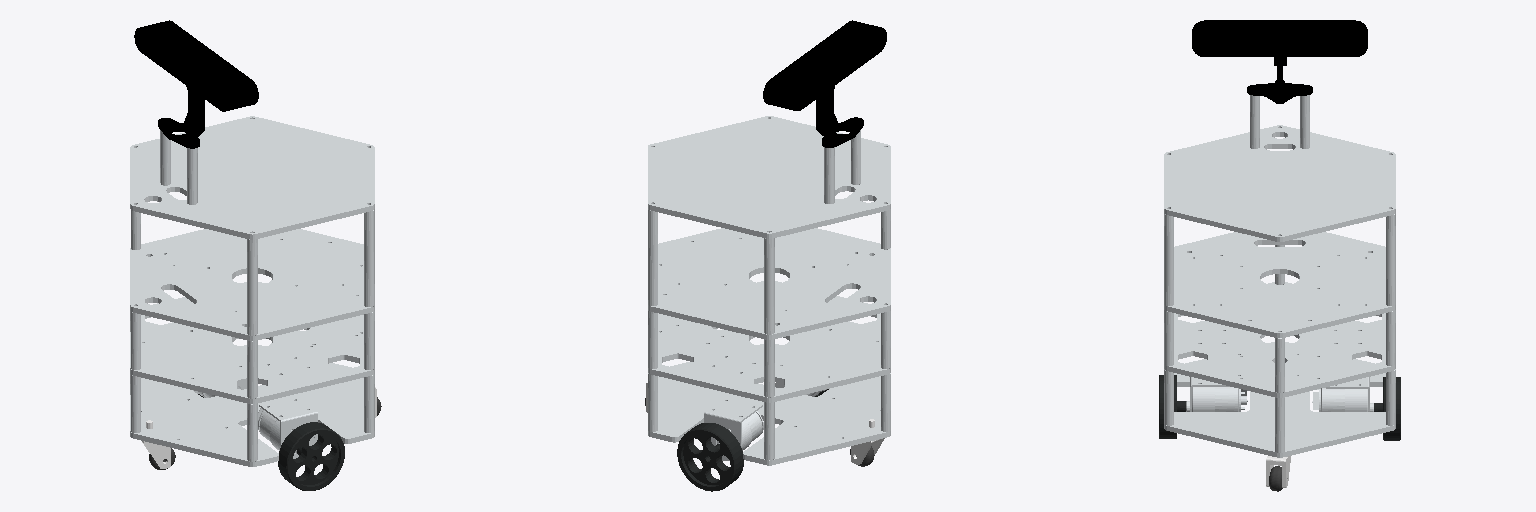
URDF robot description (m-robot):
<robot
  name="m-robot">
  <link
    name="base_link">
    <inertial>
      <origin
        xyz="0.000165827401089777 1.32092585759993E-06 0.0449588297558776"
        rpy="0 0 0" />
      <mass
        value="1.16110991709555" />
      <inertia
        ixx="0.0141882051609444"
        ixy="3.62233523910168E-07"
        ixz="-4.17201487692999E-05"
        iyy="0.0134385266460898"
        iyz="-7.5899226874292E-06"
        izz="0.00936941533097651" />
    </inertial>
    <visual>
      <origin
        xyz="0 0 0"
        rpy="0 0 0" />
      <geometry>
        <mesh
          filename="package://m-robot/meshes/base_link.STL" />
      </geometry>
      <material
        name="">
        <color
          rgba="0.898039215686275 0.917647058823529 0.929411764705882 1" />
      </material>
    </visual>
    <collision>
      <origin
        xyz="0 0 0"
        rpy="0 0 0" />
      <geometry>
        <mesh
          filename="package://m-robot/meshes/base_link.STL" />
      </geometry>
    </collision>
  </link>
  <link
    name="XtionPro_Link">
    <inertial>
      <origin
        xyz="0.0173089750578809 -7.50819682677935E-05 -0.00364675219943161"
        rpy="0 0 0" />
      <mass
        value="0.162407893054236" />
      <inertia
        ixx="0.000403778164533069"
        ixy="-1.96732545215064E-07"
        ixz="5.35884853146575E-06"
        iyy="5.69834291540739E-05"
        iyz="-1.61775151558225E-08"
        izz="0.000382310464062082" />
    </inertial>
    <visual>
      <origin
        xyz="0 0 0"
        rpy="0 0 0" />
      <geometry>
        <mesh
          filename="package://m-robot/meshes/XtionPro_Link.STL" />
      </geometry>
      <material
        name="">
        <color
          rgba="0 0 0 1" />
      </material>
    </visual>
    <collision>
      <origin
        xyz="0 0 0"
        rpy="0 0 0" />
      <geometry>
        <mesh
          filename="package://m-robot/meshes/XtionPro_Link.STL" />
      </geometry>
    </collision>
  </link>
  <joint
    name="XtionPro_Joint"
    type="continuous">
    <origin
      xyz="-0.0787933761151307 5.00000000054237E-05 0.3042"
      rpy="1.03941160890147E-16 -2.22044604925031E-16 -2.7254780997982E-17" />
    <parent
      link="base_link" />
    <child
      link="XtionPro_Link" />
    <axis
      xyz="0 0 -1" />
  </joint>
  <link
    name="L_Wheel_Link">
    <inertial>
      <origin
        xyz="8.7822128806314E-06 0.0175843325216576 4.01615191103488E-08"
        rpy="0 0 0" />
      <mass
        value="0.0301589044589903" />
      <inertia
        ixx="1.0477264259799E-05"
        ixy="-1.41957116787247E-09"
        ixz="-5.34801581187301E-12"
        iyy="1.95673216194963E-05"
        iyz="-1.4110271810981E-11"
        izz="1.04767226180504E-05" />
    </inertial>
    <visual>
      <origin
        xyz="0 0 0"
        rpy="0 0 0" />
      <geometry>
        <mesh
          filename="package://m-robot/meshes/L_Wheel_Link.STL" />
      </geometry>
      <material
        name="">
        <color
          rgba="0.192156862745098 0.203921568627451 0.203921568627451 1" />
      </material>
    </visual>
    <collision>
      <origin
        xyz="0 0 0"
        rpy="0 0 0" />
      <geometry>
        <mesh
          filename="package://m-robot/meshes/L_Wheel_Link.STL" />
      </geometry>
    </collision>
  </link>
  <joint
    name="L_Wheel_Joint"
    type="continuous">
    <origin
      xyz="0 0.0932 -0.073"
      rpy="-8.14483616971169E-17 5.79506885336787E-17 1.73046914505008E-16" />
    <parent
      link="base_link" />
    <child
      link="L_Wheel_Link" />
    <axis
      xyz="0 1 0" />
  </joint>
  <link
    name="R_Wheel_Link">
    <inertial>
      <origin
        xyz="7.55560646877173E-06 -0.0175843325216576 2.90944490236034E-06"
        rpy="0 0 0" />
      <mass
        value="0.0301589044589903" />
      <inertia
        ixx="1.04769865623321E-05"
        ixy="9.91082156776263E-10"
        ixz="-2.70786372820667E-10"
        iyy="1.95673216194963E-05"
        iyz="1.01643374547431E-09"
        izz="1.04770003155173E-05" />
    </inertial>
    <visual>
      <origin
        xyz="0 0 0"
        rpy="0 0 0" />
      <geometry>
        <mesh
          filename="package://m-robot/meshes/R_Wheel_Link.STL" />
      </geometry>
      <material
        name="">
        <color
          rgba="0.192156862745098 0.203921568627451 0.203921568627451 1" />
      </material>
    </visual>
    <collision>
      <origin
        xyz="0 0 0"
        rpy="0 0 0" />
      <geometry>
        <mesh
          filename="package://m-robot/meshes/R_Wheel_Link.STL" />
      </geometry>
    </collision>
  </link>
  <joint
    name="R_Wheel_Joint"
    type="continuous">
    <origin
      xyz="0 -0.0932000000000001 -0.0712"
      rpy="0 0 -1.04508841651281E-16" />
    <parent
      link="base_link" />
    <child
      link="R_Wheel_Link" />
    <axis
      xyz="0 1 0" />
  </joint>
  <link
    name="F_Caster_Link">
    <inertial>
      <origin
        xyz="0.00633160699751481 -7.84095011141517E-16 -0.0233754297605657"
        rpy="0 0 0" />
      <mass
        value="0.006458942084145" />
      <inertia
        ixx="8.51229871059878E-07"
        ixy="7.94093388050907E-23"
        ixz="-1.60292400055274E-07"
        iyy="8.57353144042699E-07"
        iyz="1.14035241748862E-22"
        izz="6.15415248234449E-07" />
    </inertial>
    <visual>
      <origin
        xyz="0 0 0"
        rpy="0 0 0" />
      <geometry>
        <mesh
          filename="package://m-robot/meshes/F_Caster_Link.STL" />
      </geometry>
      <material
        name="">
        <color
          rgba="1 1 1 1" />
      </material>
    </visual>
    <collision>
      <origin
        xyz="0 0 0"
        rpy="0 0 0" />
      <geometry>
        <mesh
          filename="package://m-robot/meshes/F_Caster_Link.STL" />
      </geometry>
    </collision>
  </link>
  <joint
    name="F_Caster_Joint"
    type="continuous">
    <origin
      xyz="0.112017059221718 0 -0.0535"
      rpy="2.67447454341301E-17 -1.35485287038386E-16 -0.220161696511527" />
    <parent
      link="base_link" />
    <child
      link="F_Caster_Link" />
    <axis
      xyz="0 0 -1" />
  </joint>
  <link
    name="F_Wheel_Link">
    <inertial>
      <origin
        xyz="0.0125000000000001 -7.84095011141517E-16 -0.0173079592567194"
        rpy="0 0 0" />
      <mass
        value="0.00621176171108955" />
      <inertia
        ixx="3.03577949363663E-07"
        ixy="-4.63221143029696E-23"
        ixz="-9.27710660947011E-24"
        iyy="4.5943322401206E-07"
        iyz="-3.14282252567846E-24"
        izz="3.03577949363663E-07" />
    </inertial>
    <visual>
      <origin
        xyz="0 0 0"
        rpy="0 0 0" />
      <geometry>
        <mesh
          filename="package://m-robot/meshes/F_Wheel_Link.STL" />
      </geometry>
      <material
        name="">
        <color
          rgba="0.298039215686275 0.298039215686275 0.298039215686275 1" />
      </material>
    </visual>
    <collision>
      <origin
        xyz="0 0 0"
        rpy="0 0 0" />
      <geometry>
        <mesh
          filename="package://m-robot/meshes/F_Wheel_Link.STL" />
      </geometry>
    </collision>
  </link>
  <joint
    name="F_Wheel_Joint"
    type="continuous">
    <origin
      xyz="0 0 -0.0211920407432806"
      rpy="6.16297582203915E-33 1.59766411793996E-17 0" />
    <parent
      link="F_Caster_Link" />
    <child
      link="F_Wheel_Link" />
    <axis
      xyz="0 0 -1" />
  </joint>
  <link
    name="B_Caster_Link">
    <inertial>
      <origin
        xyz="0.0061772302028385 -0.00138963095536703 -0.0233754297605657"
        rpy="0 0 0" />
      <mass
        value="0.00645894208414501" />
      <inertia
        ixx="8.51524825324746E-07"
        ixy="-1.31113975718363E-09"
        ixz="-1.56384162076956E-07"
        iyy="8.57058189777832E-07"
        iyz="3.51802127192077E-08"
        izz="6.1541524823445E-07" />
    </inertial>
    <visual>
      <origin
        xyz="0 0 0"
        rpy="0 0 0" />
      <geometry>
        <mesh
          filename="package://m-robot/meshes/B_Caster_Link.STL" />
      </geometry>
      <material
        name="">
        <color
          rgba="1 1 1 1" />
      </material>
    </visual>
    <collision>
      <origin
        xyz="0 0 0"
        rpy="0 0 0" />
      <geometry>
        <mesh
          filename="package://m-robot/meshes/B_Caster_Link.STL" />
      </geometry>
    </collision>
  </link>
  <joint
    name="B_Caster_Joint"
    type="continuous">
    <origin
      xyz="-0.112017059221718 0 -0.0535"
      rpy="0 0 -1.04508841651281E-16" />
    <parent
      link="base_link" />
    <child
      link="B_Caster_Link" />
    <axis
      xyz="0 0 -1" />
  </joint>
  <link
    name="B_Wheel_Link">
    <inertial>
      <origin
        xyz="0.0124999999999999 6.31439345255558E-16 -0.0173079592567194"
        rpy="0 0 0" />
      <mass
        value="0.00621176171108955" />
      <inertia
        ixx="3.03577949363664E-07"
        ixy="1.32348898008484E-23"
        ixz="5.21243116251773E-24"
        iyy="4.5943322401206E-07"
        iyz="-8.52200215345273E-24"
        izz="3.03577949363663E-07" />
    </inertial>
    <visual>
      <origin
        xyz="0 0 0"
        rpy="0 0 0" />
      <geometry>
        <mesh
          filename="package://m-robot/meshes/B_Wheel_Link.STL" />
      </geometry>
      <material
        name="">
        <color
          rgba="0.298039215686275 0.298039215686275 0.298039215686275 1" />
      </material>
    </visual>
    <collision>
      <origin
        xyz="0 0 0"
        rpy="0 0 0" />
      <geometry>
        <mesh
          filename="package://m-robot/meshes/B_Wheel_Link.STL" />
      </geometry>
    </collision>
  </link>
  <joint
    name="B_Wheel_Joint"
    type="continuous">
    <origin
      xyz="0 0 -0.0211920407432806"
      rpy="0 0 -0.221276561890748" />
    <parent
      link="B_Caster_Link" />
    <child
      link="B_Wheel_Link" />
    <axis
      xyz="0 0 -1" />
  </joint>
</robot>

--- Render facts (derived) ---
3 views of the same robot in one strip: view 1: azimuth 30°, elevation 25°; view 2: azimuth 150°, elevation 25°; view 3: azimuth 270°, elevation 25° (orthographic).
Model m-robot with 8 links and 7 joints (7 continuous), rooted at base_link, posed all joints at 0.
Links seen in each view (by area): view 1: base_link, XtionPro_Link, R_Wheel_Link; view 2: base_link, XtionPro_Link, L_Wheel_Link; view 3: base_link, XtionPro_Link, L_Wheel_Link, R_Wheel_Link.
Link boxes in pixels (<box>): base_link: <box>130,116,374,466</box>; XtionPro_Link: <box>134,20,258,148</box>; R_Wheel_Link: <box>278,422,344,490</box>; base_link: <box>648,116,890,465</box>; XtionPro_Link: <box>763,20,886,147</box>; L_Wheel_Link: <box>677,423,743,491</box>; base_link: <box>1164,95,1395,457</box>; XtionPro_Link: <box>1192,20,1367,103</box>; L_Wheel_Link: <box>1374,377,1400,440</box>; R_Wheel_Link: <box>1159,375,1185,438</box>.
Bounding box of the posed robot: 0.2689 × 0.2404 × 0.4217 m (x, y, z).
8 mesh visuals loaded from 8 distinct referenced files (8 binary STL).